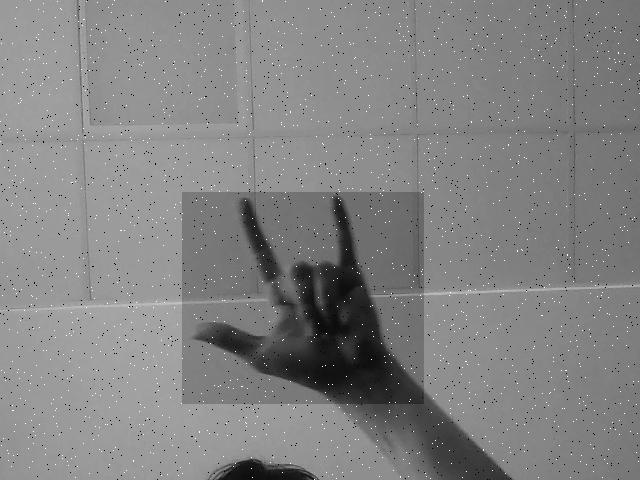I_Love_You: (182, 192, 424, 404)
